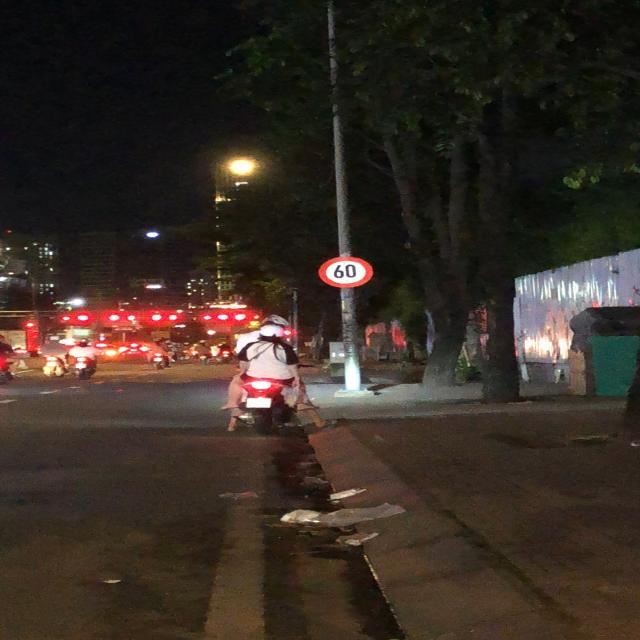Bien bao toc do toi da cho phep: (316, 254, 374, 288)
